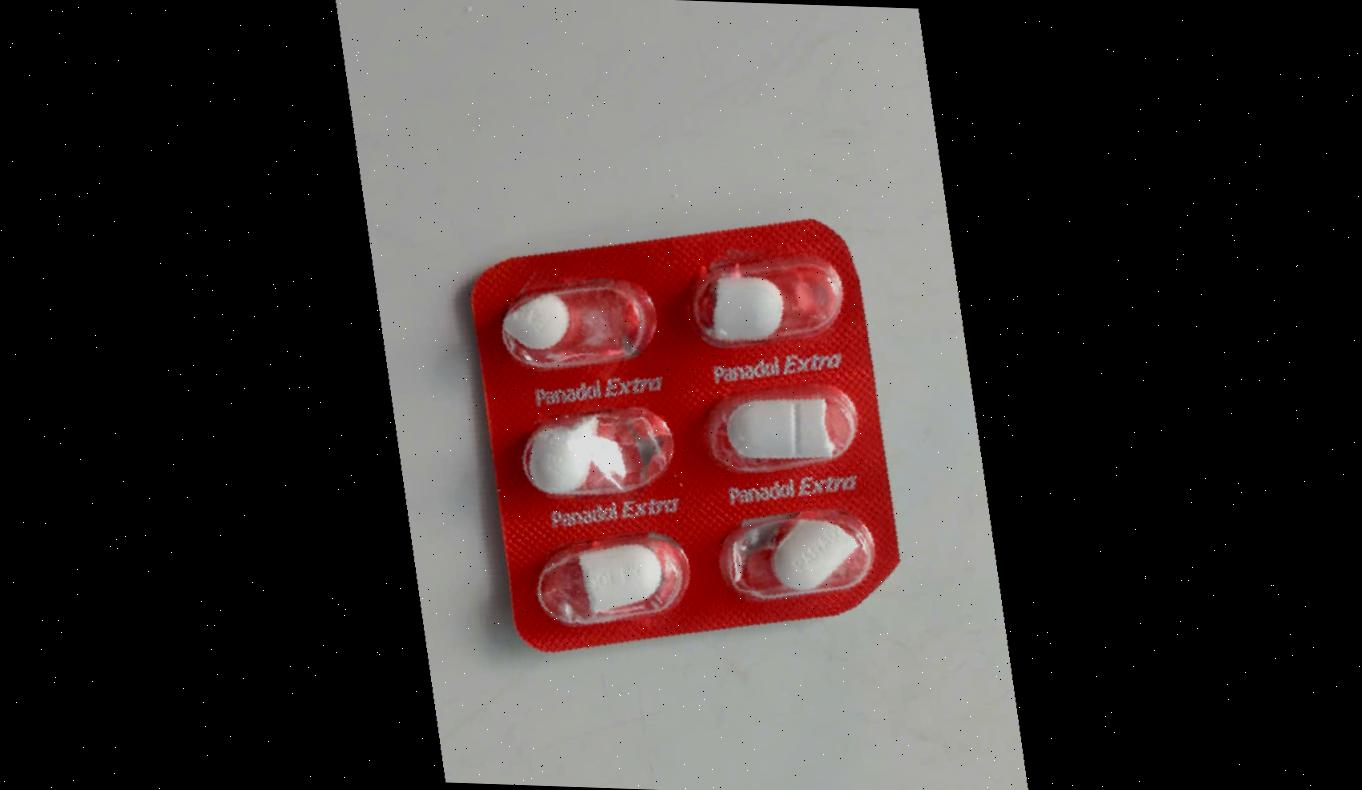Partial: (715, 507, 880, 608), (692, 377, 857, 478), (499, 270, 664, 371), (522, 534, 687, 635), (523, 403, 688, 504), (682, 243, 846, 343)
